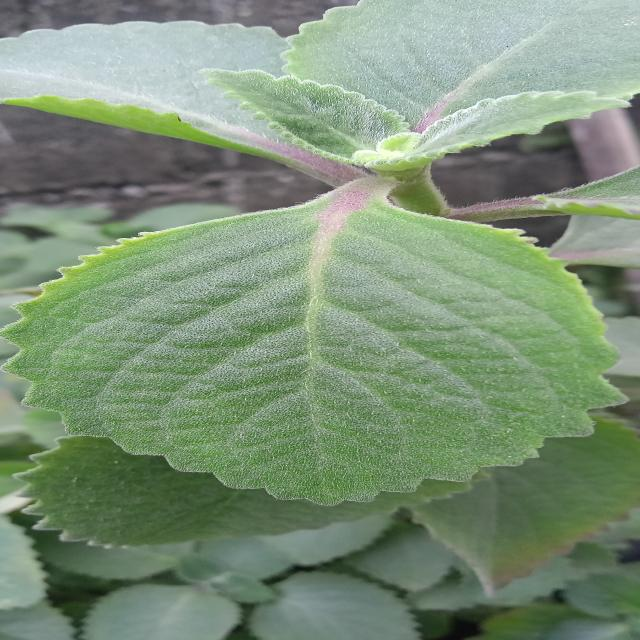Oregano: (1, 169, 640, 520)
